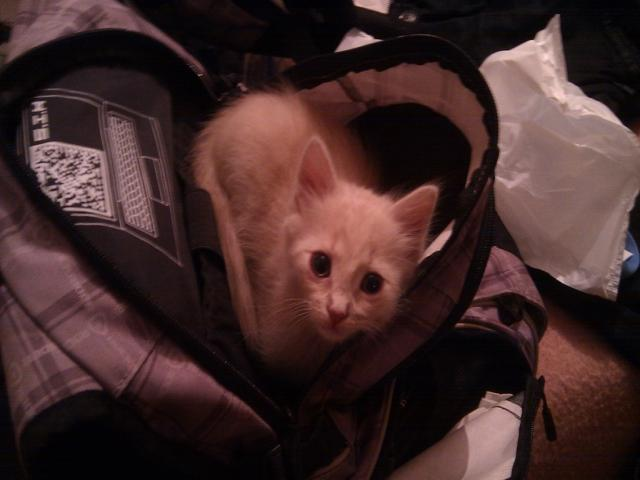Cat: (189, 85, 441, 362)
